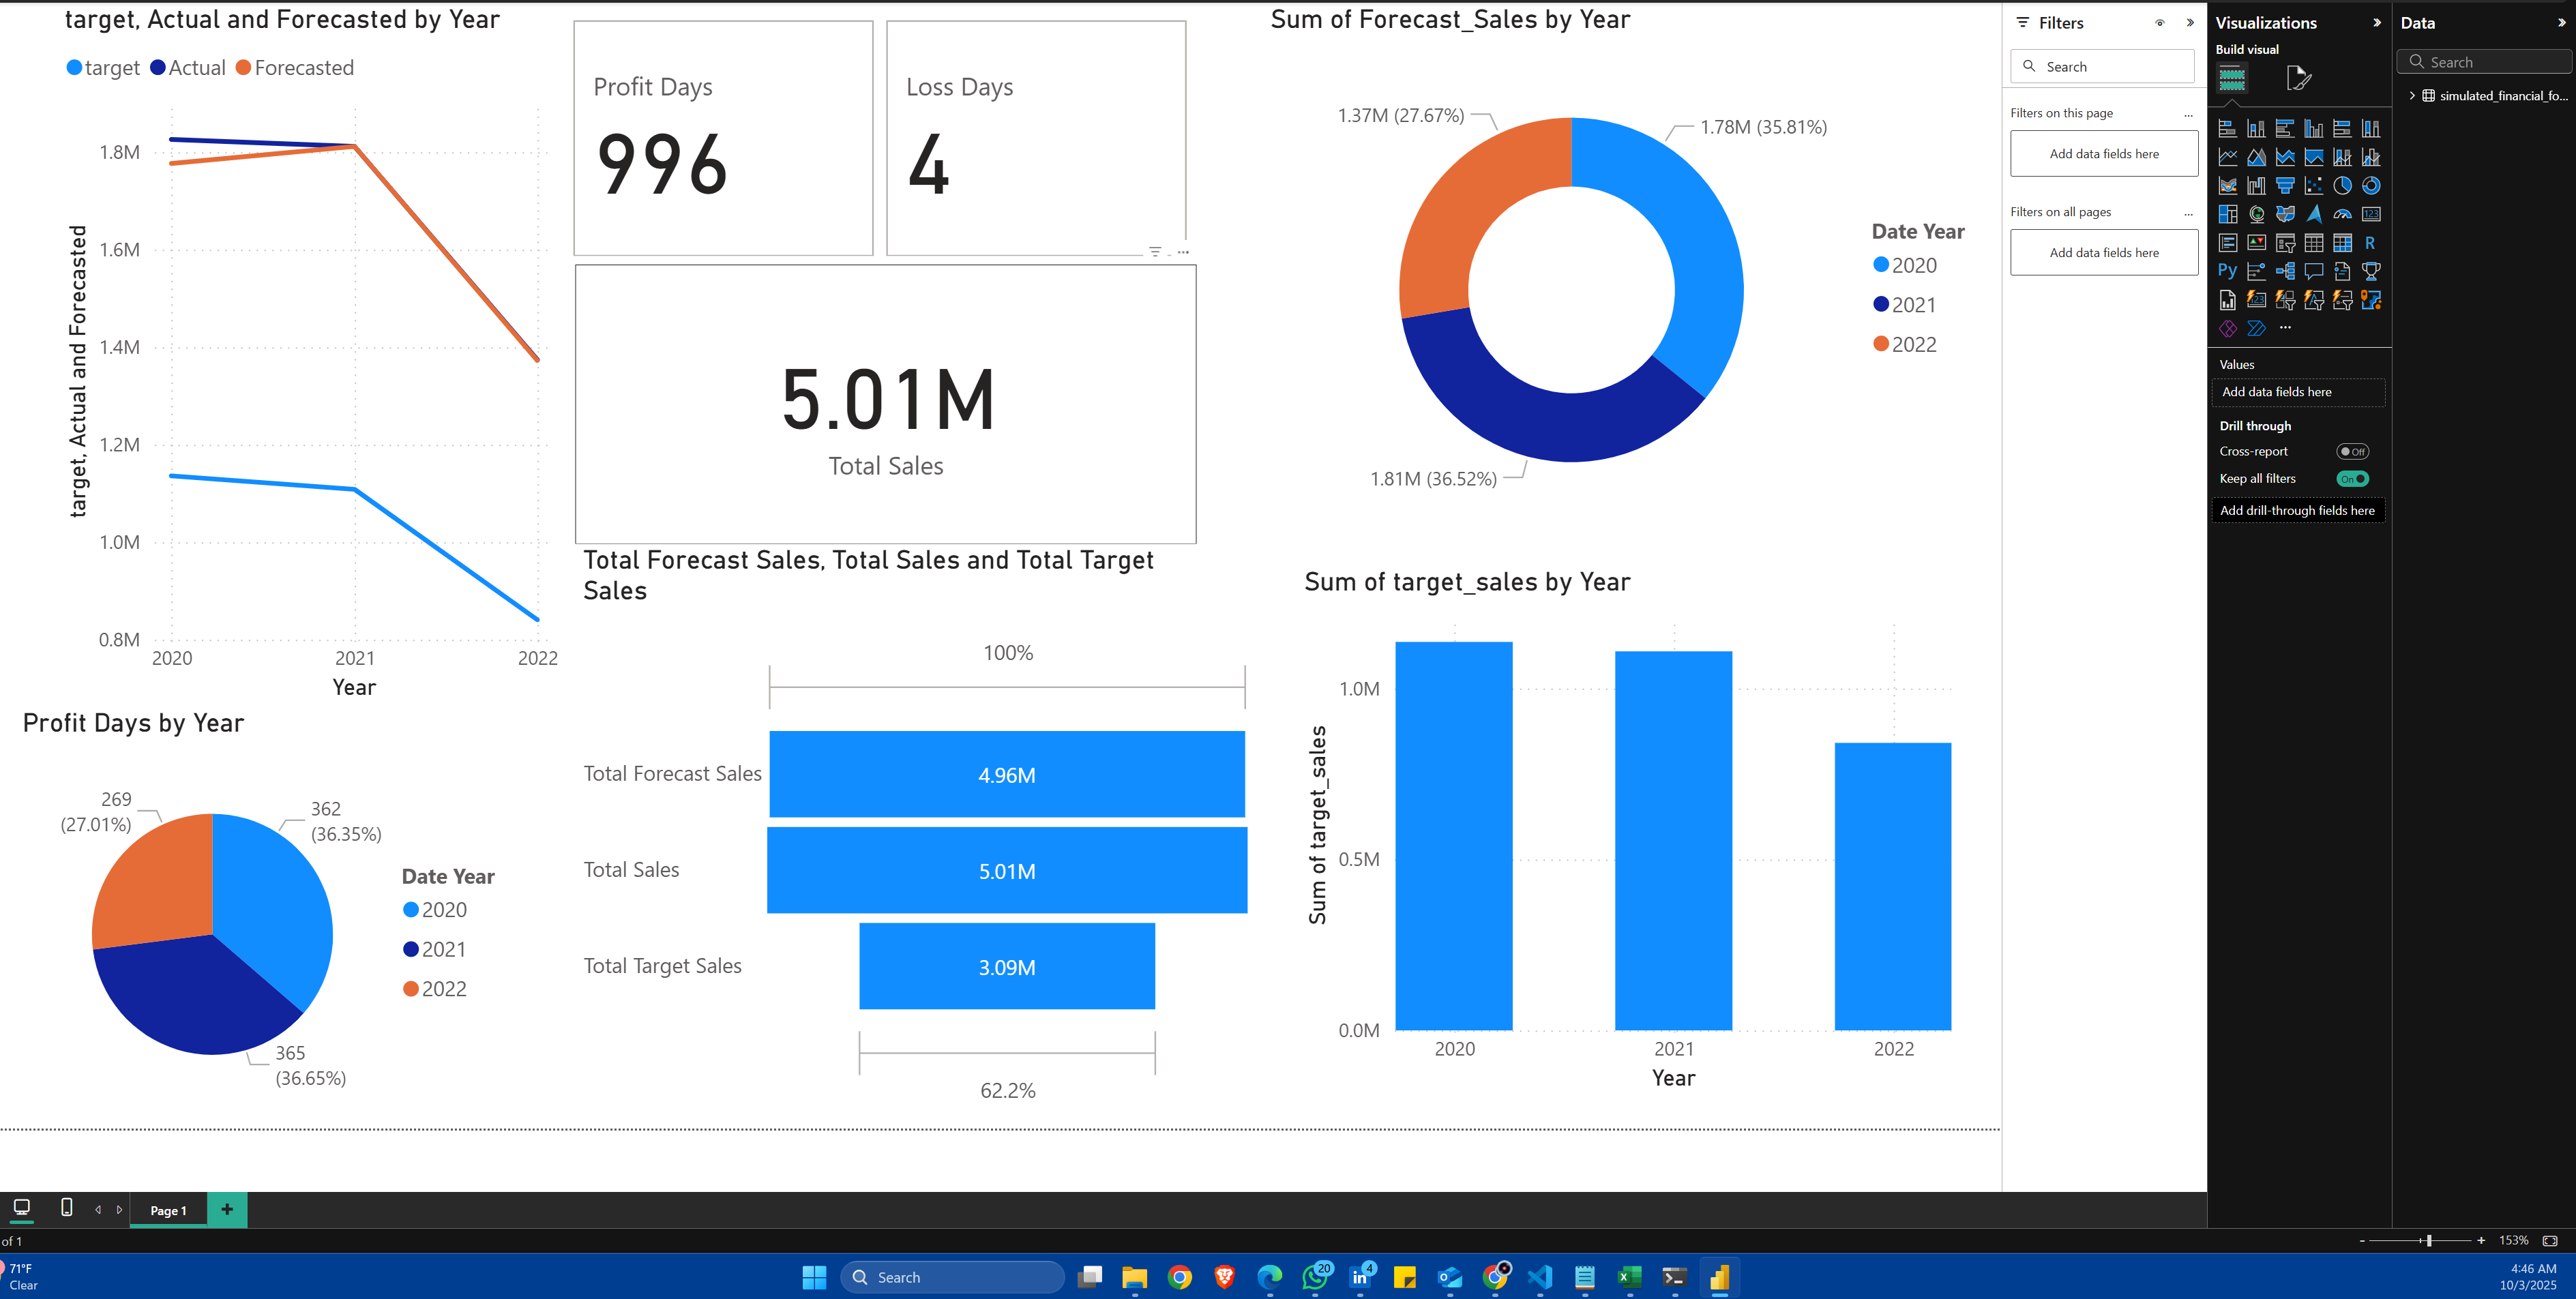

What the dashboard file says about the page in this screenshot:
{"tool":"powerbi","page":{"name":"Page 1","canvas":[1280,720],"ordinal":0},"visuals":[{"type":"lineChart","fields":{"Category":["simulated_financial_forecasting_data.Date.Variation.Date Hierarchy.Year","simulated_financial_forecasting_data.Date.Variation.Date Hierarchy.Month","simulated_financial_forecasting_data.Date.Variation.Date Hierarchy.Day"],"Y":["Sum(simulated_financial_forecasting_data.target_sales)","Sum(simulated_financial_forecasting_data.sales)","Sum(simulated_financial_forecasting_data.Forecast_Sales)"]},"box":[36.6,0,325,449.9],"z":0},{"type":"cardVisual","fields":{"Data":["simulated_financial_forecasting_data.Profit Days","simulated_financial_forecasting_data.Loss Days"]},"box":[361.6,5.9,403.5,161.5],"z":1000},{"type":"lineStackedColumnComboChart","fields":{"Category":["simulated_financial_forecasting_data.Date.Variation.Date Hierarchy.Year","simulated_financial_forecasting_data.Date.Variation.Date Hierarchy.Quarter","simulated_financial_forecasting_data.Date.Variation.Date Hierarchy.Month","simulated_financial_forecasting_data.Date.Variation.Date Hierarchy.Day"],"Y":["Sum(simulated_financial_forecasting_data.target_sales)"]},"box":[829.2,359.7,423.8,340.1],"z":2000},{"type":"pieChart","fields":{"Category":["simulated_financial_forecasting_data.Date.Variation.Date Hierarchy.Year","simulated_financial_forecasting_data.Date.Variation.Date Hierarchy.Quarter","simulated_financial_forecasting_data.Date.Variation.Date Hierarchy.Month","simulated_financial_forecasting_data.Date.Variation.Date Hierarchy.Day","simulated_financial_forecasting_data.sales"],"Y":["simulated_financial_forecasting_data.Profit Days"]},"box":[9.8,449.9,330.2,270.1],"z":3000},{"type":"donutChart","fields":{"Category":["simulated_financial_forecasting_data.Date.Variation.Date Hierarchy.Year","simulated_financial_forecasting_data.Date.Variation.Date Hierarchy.Quarter","simulated_financial_forecasting_data.Date.Variation.Date Hierarchy.Month","simulated_financial_forecasting_data.Date.Variation.Date Hierarchy.Day"],"Y":["Sum(simulated_financial_forecasting_data.Forecast_Sales)"]},"box":[807.6,0,472.2,345.9],"z":4000},{"type":"card","fields":{"Values":["simulated_financial_forecasting_data.Total Sales"]},"box":[368.2,167.4,396.9,178.5],"z":5000},{"type":"funnel","fields":{"Y":["simulated_financial_forecasting_data.Total Forecast Sales","simulated_financial_forecasting_data.Total Sales","simulated_financial_forecasting_data.Total Target Sales"]},"box":[368.2,345.9,439.5,374.1],"z":6000}]}

Visuals, with their boxes on the page's 1280x720 design canvas (x1, y1, x2, y2). These are canvas units, not pixel positions in the 2576x1299 screenshot, which may show the page scaled, cropped or inside an application window:
lineChart - simulated_financial_forecasting_data.Date.Variation.Date Hierarchy.Year x simulated_financial_forecasting_data.Date.Variation.Date Hierarchy.Month: BBox(37, 0, 362, 450)
cardVisual - simulated_financial_forecasting_data.Profit Days x simulated_financial_forecasting_data.Loss Days: BBox(362, 6, 765, 167)
lineStackedColumnComboChart - simulated_financial_forecasting_data.Date.Variation.Date Hierarchy.Year x simulated_financial_forecasting_data.Date.Variation.Date Hierarchy.Quarter: BBox(829, 360, 1253, 700)
pieChart - simulated_financial_forecasting_data.Date.Variation.Date Hierarchy.Year x simulated_financial_forecasting_data.Date.Variation.Date Hierarchy.Quarter: BBox(10, 450, 340, 720)
donutChart - simulated_financial_forecasting_data.Date.Variation.Date Hierarchy.Year x simulated_financial_forecasting_data.Date.Variation.Date Hierarchy.Quarter: BBox(808, 0, 1280, 346)
card - simulated_financial_forecasting_data.Total Sales: BBox(368, 167, 765, 346)
funnel - simulated_financial_forecasting_data.Total Forecast Sales x simulated_financial_forecasting_data.Total Sales: BBox(368, 346, 808, 720)
